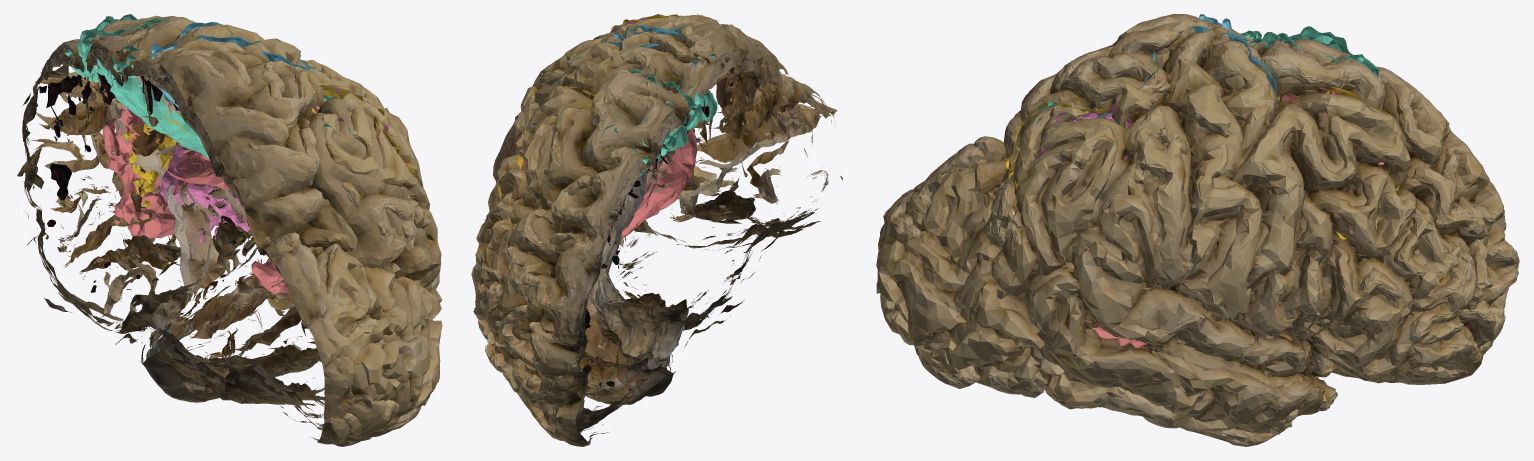
The model's file is bradipho_spc12.glb.
The picture shows the model from 3 angles, left to right: view 1: azimuth 30°, elevation 25°; view 2: azimuth 150°, elevation 25°; view 3: azimuth 270°, elevation 25°; orthographic projection. The views are drawn at different scales.
Parts seen in each view (by area): view 1: Approach: Fibre dissection (BraDiPho specimen 12) — stage 1, Approach: Fibre dissection (BraDiPho specimen 12) — stage 2, Approach: Fibre dissection (BraDiPho specimen 12) — stage 3, Approach: Fibre dissection (BraDiPho specimen 12) — stage 8, Approach: Fibre dissection (BraDiPho specimen 12) — stage 12, Arcuate fasciculus dorsal frontotemporal segment — MFG–STG R, Approach: Fibre dissection (BraDiPho specimen 12) — stage 7, Approach: Fibre dissection (BraDiPho specimen 12) — stage 4, Approach: Fibre dissection (BraDiPho specimen 12) — stage 11, Approach: Fibre dissection (BraDiPho specimen 12) — stage 9, Approach: Fibre dissection (BraDiPho specimen 12) — stage 6, Superior longitudinal fasciculus I — SFG–AG R (BraDiPho spec (+5 smaller); view 2: Approach: Fibre dissection (BraDiPho specimen 12) — stage 1, Approach: Fibre dissection (BraDiPho specimen 12) — stage 2, Approach: Fibre dissection (BraDiPho specimen 12) — stage 8, Approach: Fibre dissection (BraDiPho specimen 12) — stage 3, Approach: Fibre dissection (BraDiPho specimen 12) — stage 12, Approach: Fibre dissection (BraDiPho specimen 12) — stage 9, Approach: Fibre dissection (BraDiPho specimen 12) — stage 11, Approach: Fibre dissection (BraDiPho specimen 12) — stage 6, Approach: Fibre dissection (BraDiPho specimen 12) — stage 10, Approach: Fibre dissection (BraDiPho specimen 12) — stage 7, Arcuate fasciculus dorsal frontotemporal segment — MFG–STG R, Superior longitudinal fasciculus I — SFG–AG R (BraDiPho spec (+4 smaller); view 3: Approach: Fibre dissection (BraDiPho specimen 12) — stage 2, Approach: Fibre dissection (BraDiPho specimen 12) — stage 1, Approach: Fibre dissection (BraDiPho specimen 12) — stage 3, Approach: Fibre dissection (BraDiPho specimen 12) — stage 4, Approach: Fibre dissection (BraDiPho specimen 12) — stage 8, Approach: Fibre dissection (BraDiPho specimen 12) — stage 5, Approach: Fibre dissection (BraDiPho specimen 12) — stage 12, Approach: Fibre dissection (BraDiPho specimen 12) — stage 6, Approach: Fibre dissection (BraDiPho specimen 12) — stage 9, Approach: Fibre dissection (BraDiPho specimen 12) — stage 7, Superior longitudinal fasciculus I — SFG–AG R (BraDiPho spec, Superior longitudinal fasciculus II — MFG–AG R (BraDiPho spe (+1 smaller).
Boxes of the visible parts, x1,y1,x2,y2 form: Approach: Fibre dissection (BraDiPho specimen 12) — stage 1: [17, 22, 432, 446]; Approach: Fibre dissection (BraDiPho specimen 12) — stage 2: [36, 15, 442, 438]; Approach: Fibre dissection (BraDiPho specimen 12) — stage 3: [24, 16, 439, 432]; Approach: Fibre dissection (BraDiPho specimen 12) — stage 8: [22, 16, 420, 430]; Approach: Fibre dissection (BraDiPho specimen 12) — stage 12: [23, 17, 390, 424]; Arcuate fasciculus dorsal frontotemporal segment — MFG–STG R: [102, 97, 289, 293]; Approach: Fibre dissection (BraDiPho specimen 12) — stage 7: [25, 19, 414, 416]; Approach: Fibre dissection (BraDiPho specimen 12) — stage 4: [26, 22, 438, 424]; Approach: Fibre dissection (BraDiPho specimen 12) — stage 11: [24, 59, 393, 426]; Approach: Fibre dissection (BraDiPho specimen 12) — stage 9: [23, 21, 404, 424]; Approach: Fibre dissection (BraDiPho specimen 12) — stage 6: [26, 48, 394, 424]; Superior longitudinal fasciculus I — SFG–AG R (BraDiPho spec: [65, 14, 374, 159]; Approach: Fibre dissection (BraDiPho specimen 12) — stage 1: [484, 17, 842, 446]; Approach: Fibre dissection (BraDiPho specimen 12) — stage 2: [471, 14, 818, 440]; Approach: Fibre dissection (BraDiPho specimen 12) — stage 8: [476, 15, 830, 430]; Approach: Fibre dissection (BraDiPho specimen 12) — stage 3: [471, 15, 834, 439]; Approach: Fibre dissection (BraDiPho specimen 12) — stage 12: [507, 15, 825, 427]; Approach: Fibre dissection (BraDiPho specimen 12) — stage 9: [487, 21, 827, 429]; Approach: Fibre dissection (BraDiPho specimen 12) — stage 11: [517, 34, 830, 418]; Approach: Fibre dissection (BraDiPho specimen 12) — stage 6: [507, 35, 819, 410]; Approach: Fibre dissection (BraDiPho specimen 12) — stage 10: [513, 54, 825, 422]; Approach: Fibre dissection (BraDiPho specimen 12) — stage 7: [495, 27, 823, 432]; Arcuate fasciculus dorsal frontotemporal segment — MFG–STG R: [521, 95, 697, 239]; Superior longitudinal fasciculus I — SFG–AG R (BraDiPho spec: [592, 69, 717, 175]; Approach: Fibre dissection (BraDiPho specimen 12) — stage 2: [876, 15, 1519, 445]; Approach: Fibre dissection (BraDiPho specimen 12) — stage 1: [876, 14, 1505, 433]; Approach: Fibre dissection (BraDiPho specimen 12) — stage 3: [880, 24, 1518, 446]; Approach: Fibre dissection (BraDiPho specimen 12) — stage 4: [922, 21, 1512, 433]; Approach: Fibre dissection (BraDiPho specimen 12) — stage 8: [907, 17, 1517, 444]; Approach: Fibre dissection (BraDiPho specimen 12) — stage 5: [899, 25, 1512, 431]; Approach: Fibre dissection (BraDiPho specimen 12) — stage 12: [884, 24, 1518, 428]; Approach: Fibre dissection (BraDiPho specimen 12) — stage 6: [912, 23, 1493, 446]; Approach: Fibre dissection (BraDiPho specimen 12) — stage 9: [899, 21, 1517, 384]; Approach: Fibre dissection (BraDiPho specimen 12) — stage 7: [963, 41, 1510, 443]; Superior longitudinal fasciculus I — SFG–AG R (BraDiPho spec: [1022, 26, 1385, 139]; Superior longitudinal fasciculus II — MFG–AG R (BraDiPho spe: [1005, 84, 1399, 266].
Size of the model in its own units: 73 by 111 by 169.
